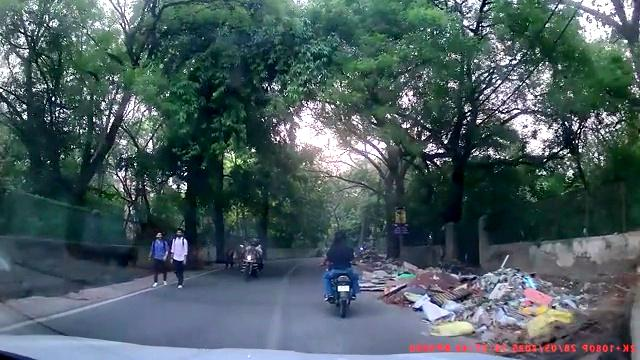motorcycle_with_helmet: (239, 236, 264, 282)
motorcycle_without_helmet: (321, 230, 359, 320)
